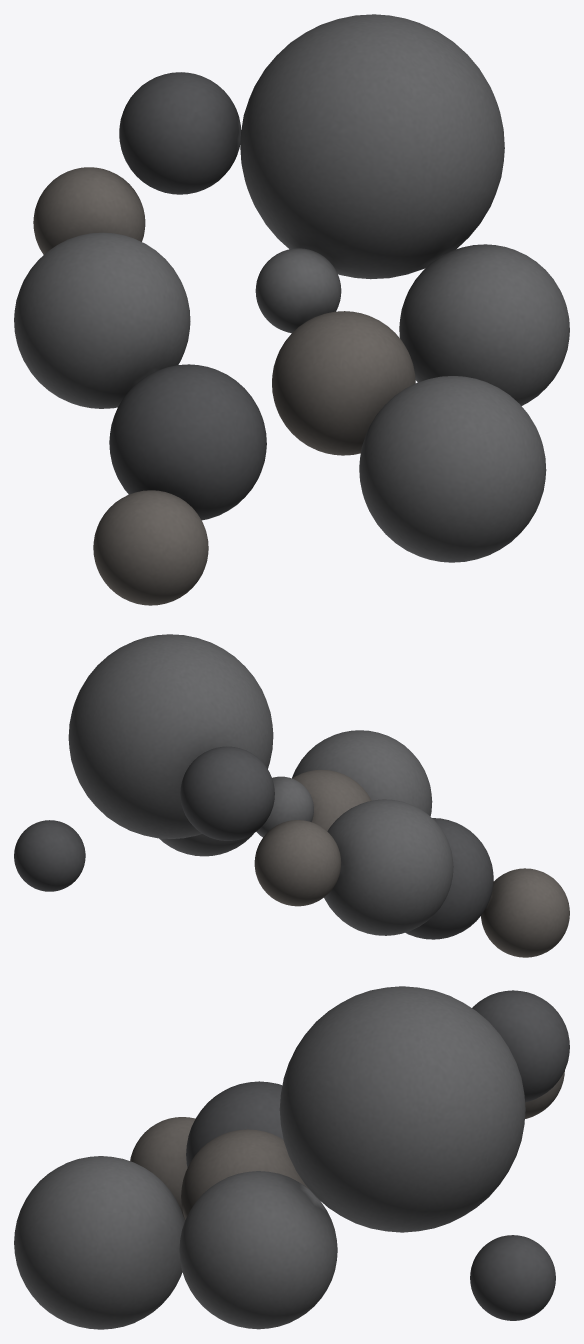
File: grinding-media-hicr.glb
3 renders of one model, top to bottom at view 1: azimuth 30°, elevation 25°; view 2: azimuth 150°, elevation 25°; view 3: azimuth 270°, elevation 25°, orthographic. The views are drawn at different scales.
Visible parts, largest first — view 1: media, mediaWarm, mediaDark; view 2: media, mediaDark, mediaWarm; view 3: media, mediaDark, mediaWarm.
Part boxes in pixels (box(x1,y1,x2,y2)): media: box(14, 14, 569, 562); mediaWarm: box(33, 167, 415, 605); mediaDark: box(109, 72, 266, 520); media: box(68, 634, 453, 935); mediaDark: box(14, 746, 493, 939); mediaWarm: box(254, 769, 569, 957); media: box(14, 986, 525, 1329); mediaDark: box(186, 990, 569, 1320); mediaWarm: box(130, 1070, 564, 1220).
Size of the model in its own units: 0.3481 by 0.255 by 0.3422.
3 materials, 3 textured.
